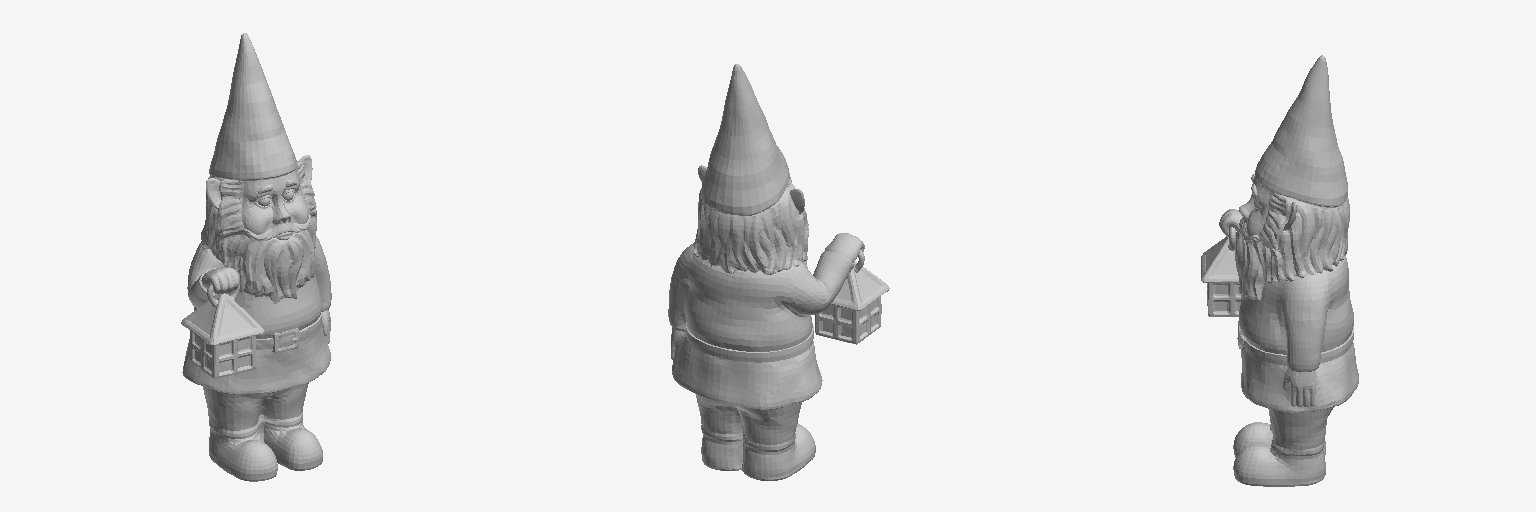
File: gnome.obj
The picture shows the model from 3 angles: view 1: azimuth 30°, elevation 25°; view 2: azimuth 150°, elevation 25°; view 3: azimuth 270°, elevation 25°; orthographic projection.
Parts seen in each view (by area): view 1: garden_gnome; view 2: garden_gnome; view 3: garden_gnome.
Part boxes in pixels (x1,y1,x2,y2): garden_gnome: (181,33,331,481); garden_gnome: (668,64,889,480); garden_gnome: (1201,55,1358,486).
Bounding box in the file's own units: 0.8889 × 2.06 × 0.7228.